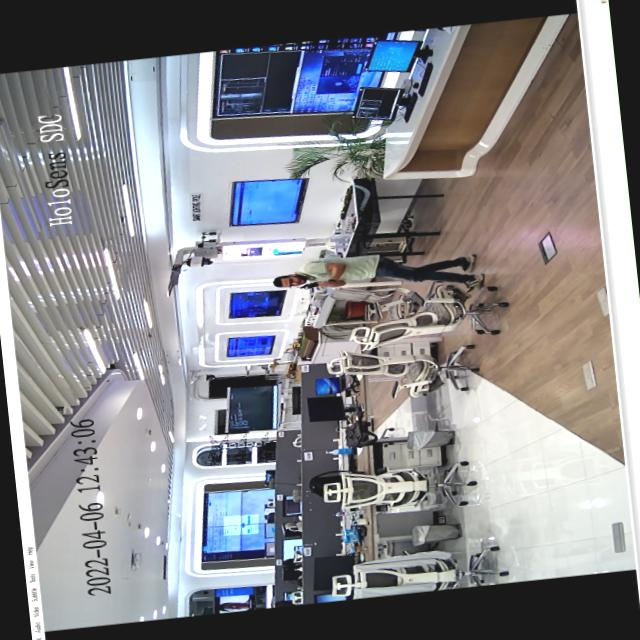long weapon: (294, 276, 339, 290)
